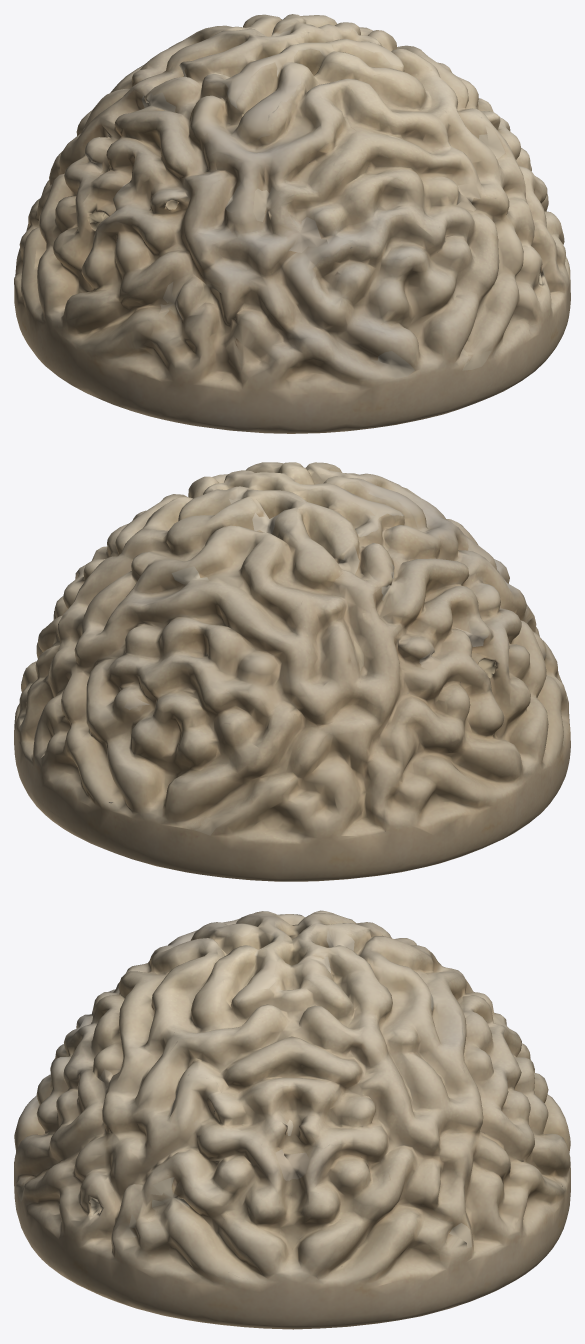
3 views of the same model, one above another, from view 1: azimuth 30°, elevation 25°; view 2: azimuth 150°, elevation 25°; view 3: azimuth 270°, elevation 25° (orthographic).
Visible parts, largest first — view 1: world; view 2: world; view 3: world.
Boxes of the visible parts, left/top/right/bottom form: world: left=14, top=14, right=570, bottom=433; world: left=14, top=462, right=570, bottom=881; world: left=14, top=910, right=570, bottom=1329.
Size of the model in its own units: 0.18 by 0.0998 by 0.1799.
1 material, 1 textured.
